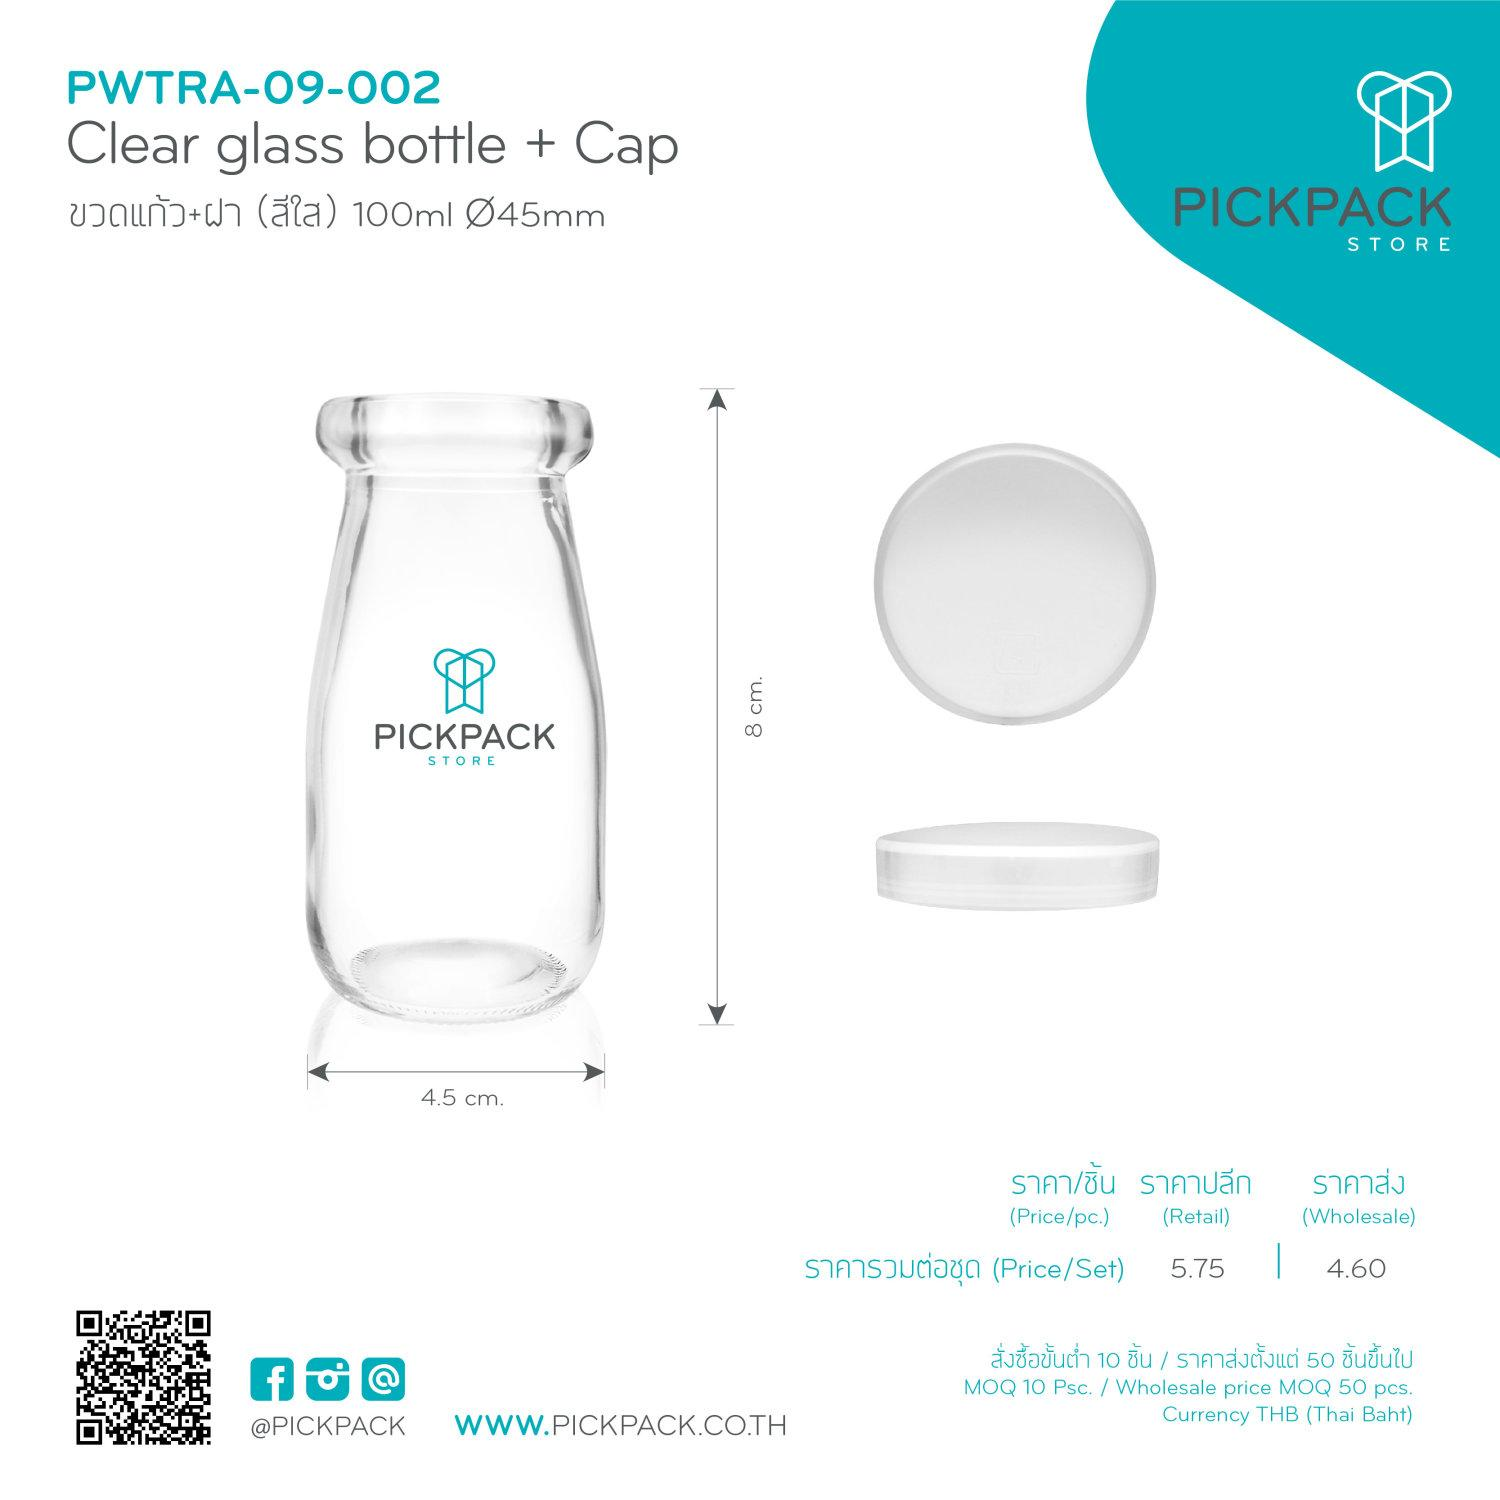glass_bottleww: (218, 332, 668, 1107)
